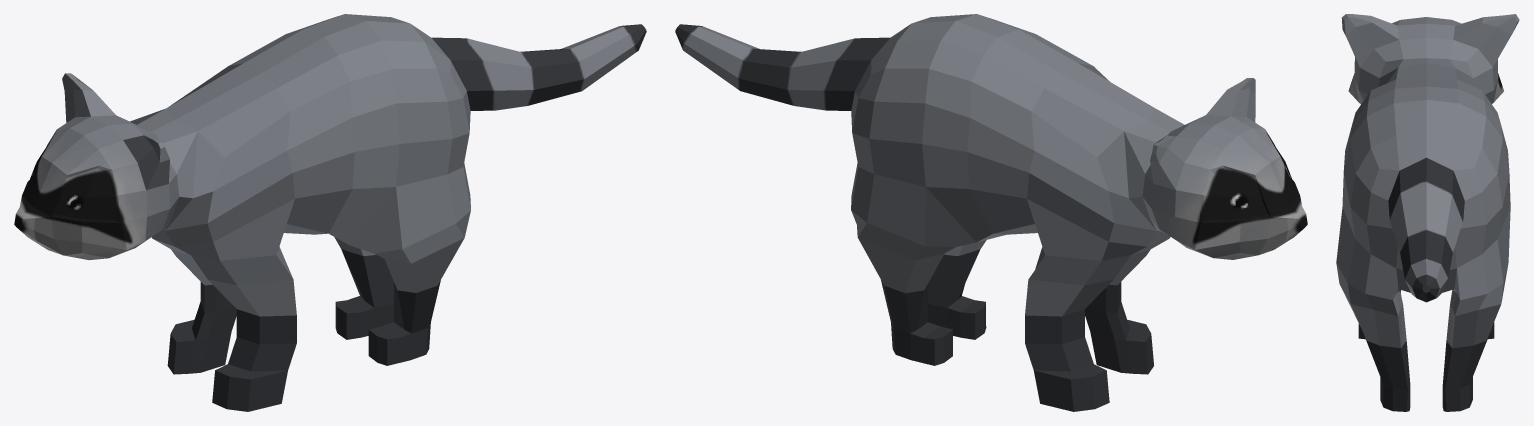
File: Raccoon.fbx
3 renders of one model, left to right at view 1: azimuth 30°, elevation 25°; view 2: azimuth 150°, elevation 25°; view 3: azimuth 270°, elevation 25°, orthographic. The views are drawn at different scales.
Visible parts, largest first — view 1: Raccoon; view 2: Raccoon; view 3: Raccoon.
Boxes of the visible parts, bbox=[...] form: Raccoon: bbox=[14, 14, 646, 411]; Raccoon: bbox=[675, 14, 1307, 411]; Raccoon: bbox=[1336, 14, 1519, 411].
Size of the model in its own units: 68.91 by 34.09 by 19.38.
